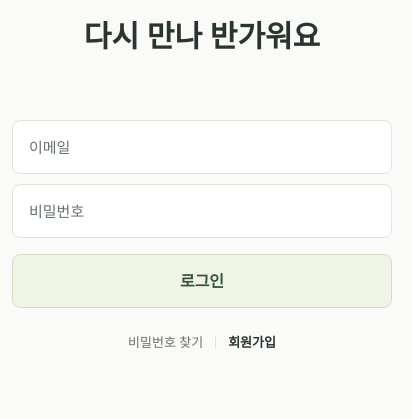
Test case: LoginPage › 빈 칸으로 로그인하면 두 칸 모두 오류를 보여 준다
Click the button "로그인" at (202, 281), box [12,254,392,308]
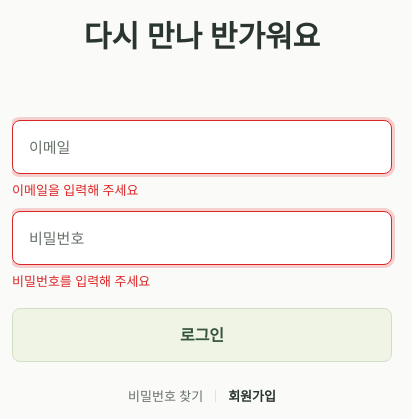
Expected: the text "이메일을 입력해 주세요" is shown, [12,181,138,199]
Expected: the text "비밀번호를 입력해 주세요" is shown, [12,272,150,290]
